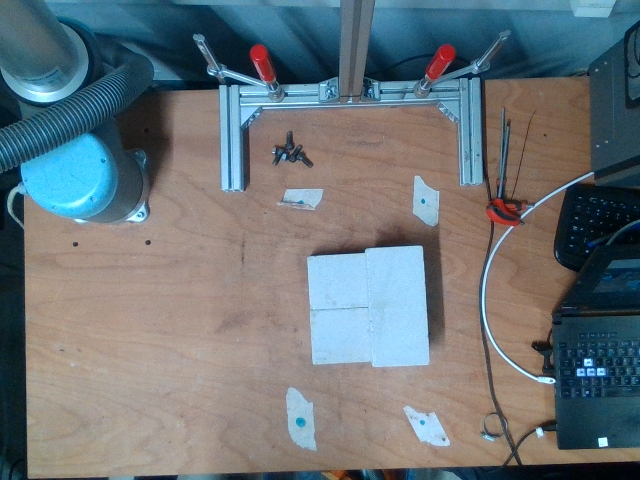brick: (365, 245, 430, 367)
